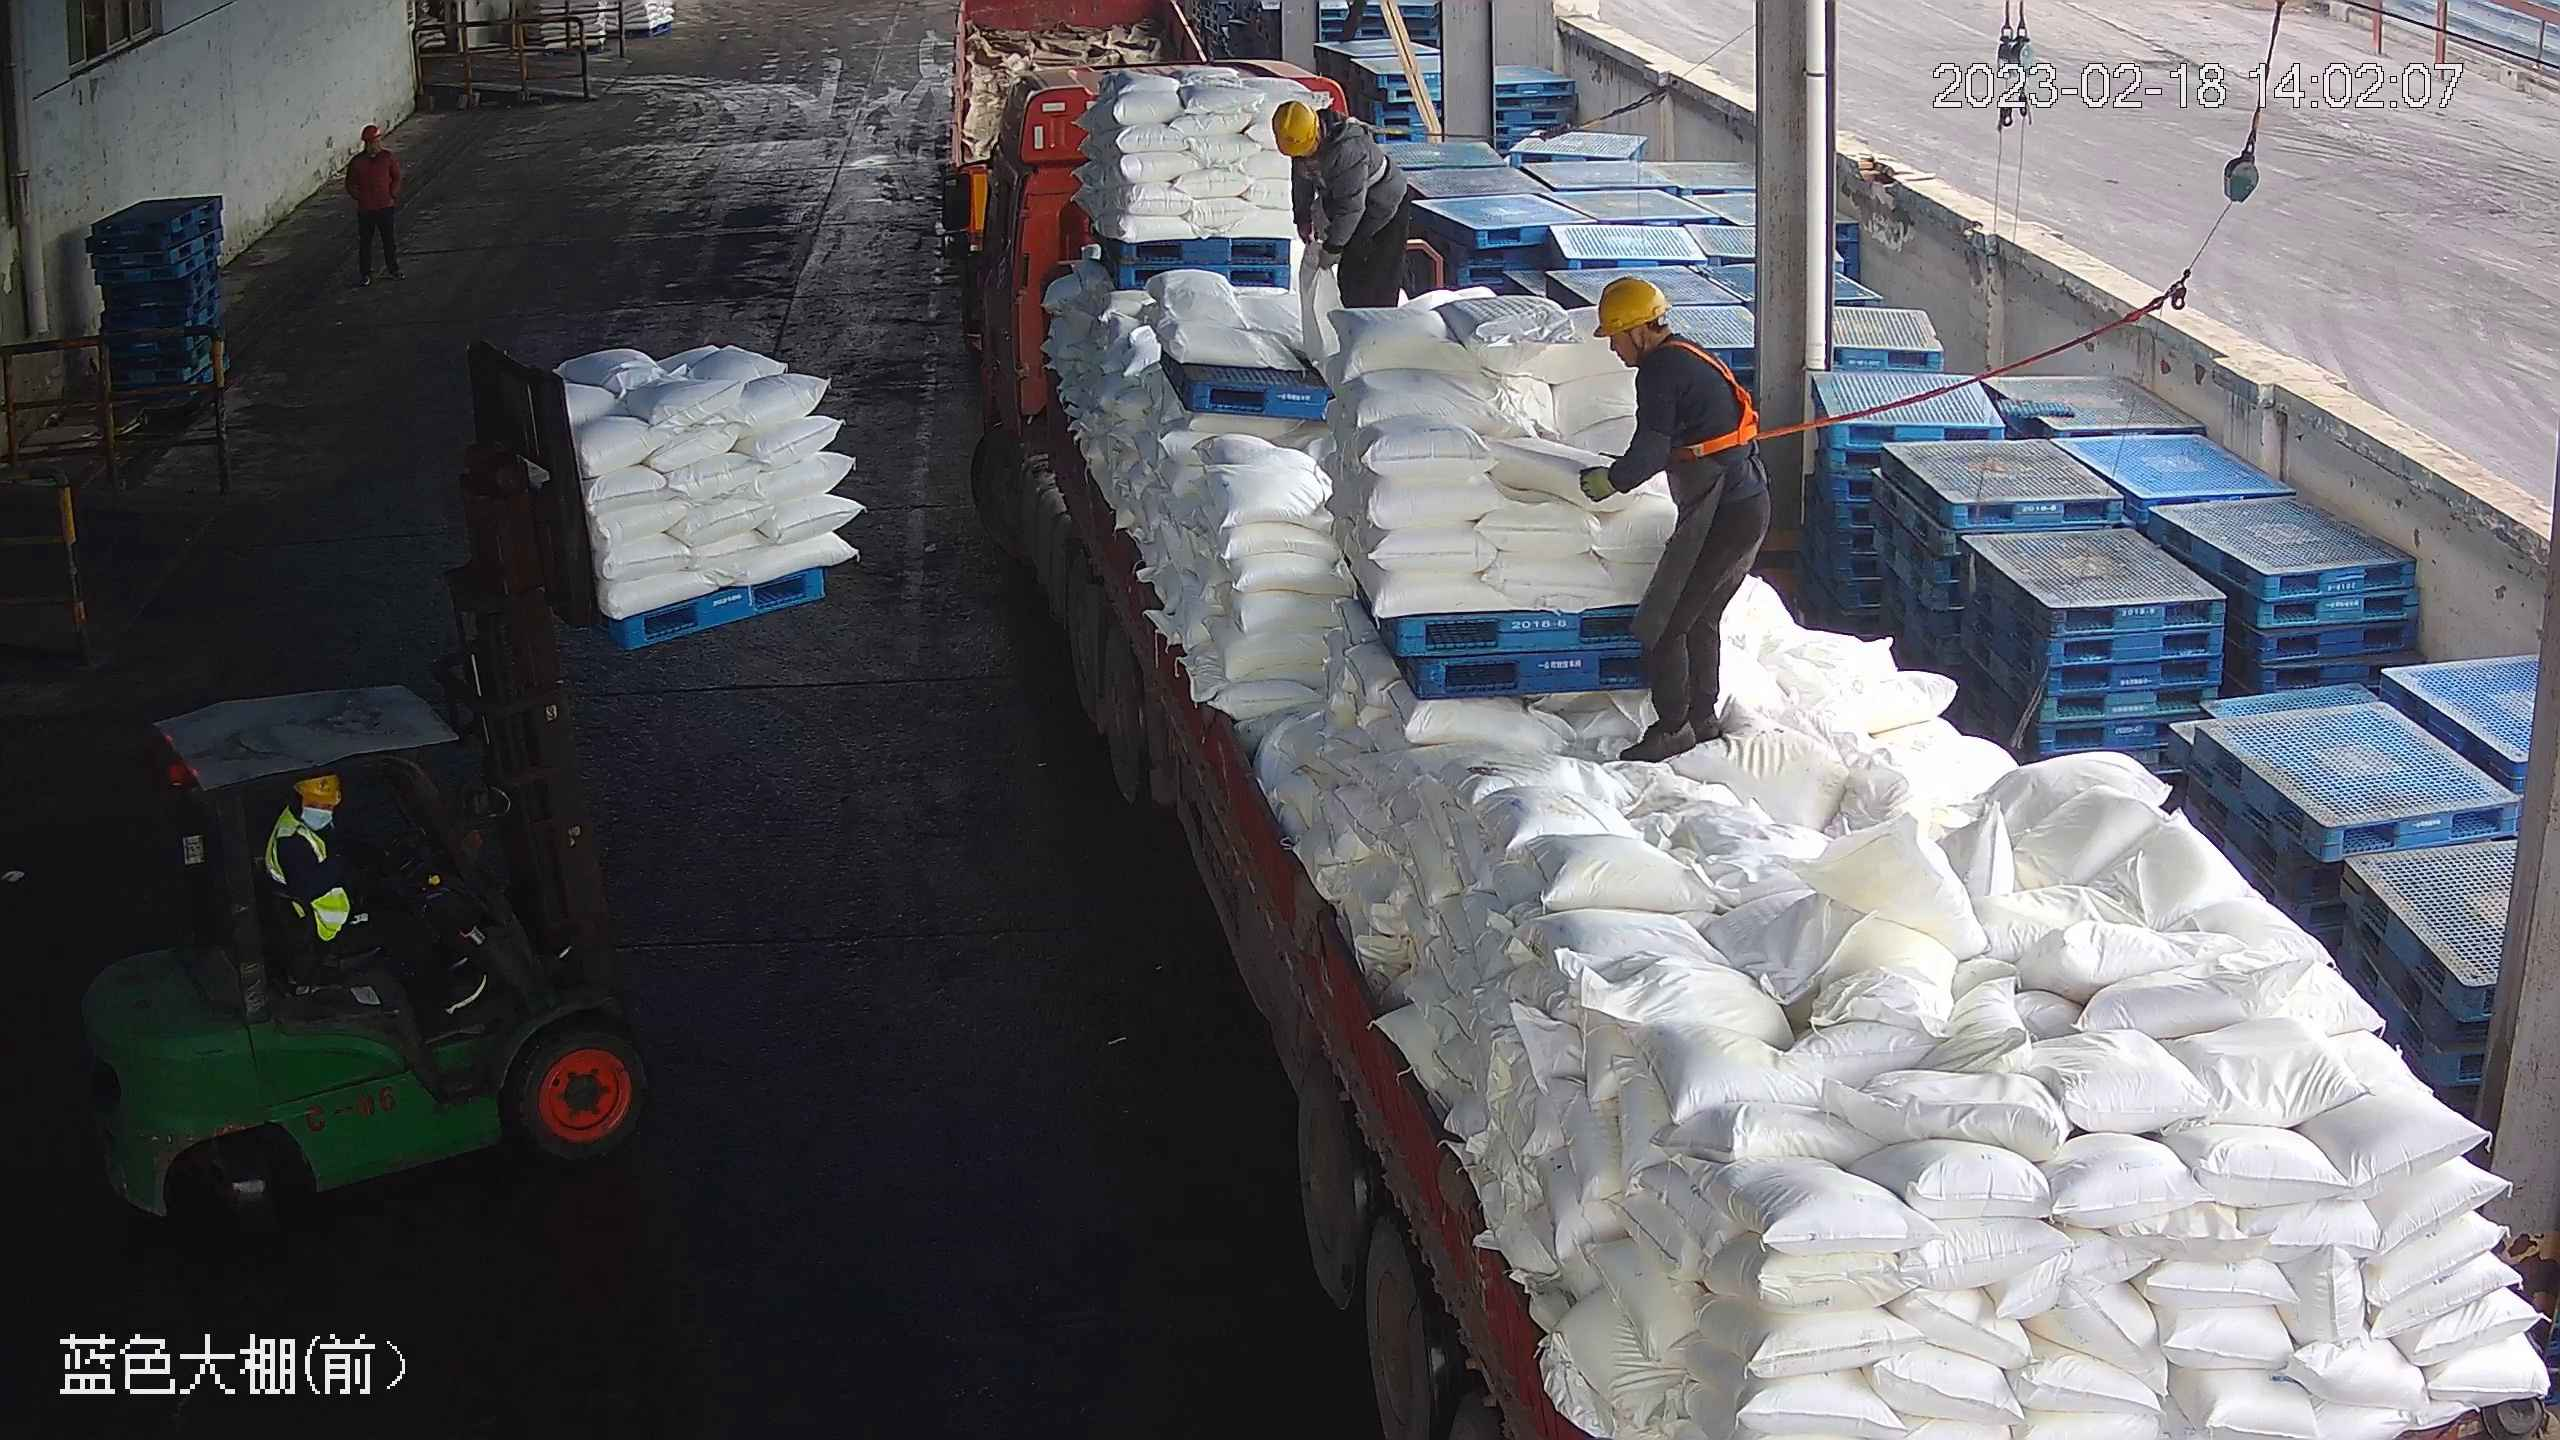belt: (1657, 336, 1769, 460), (1313, 116, 1392, 189)
head: (1590, 276, 1744, 400), (1270, 98, 1376, 178), (269, 773, 347, 871), (347, 119, 400, 173)
helmet: (1591, 275, 1671, 341), (1268, 98, 1320, 158), (296, 777, 341, 808), (360, 120, 386, 142)
people: (1578, 275, 1773, 762), (264, 773, 487, 1012), (1267, 94, 1416, 315), (340, 119, 412, 286)
truck: (944, 60, 2557, 1440)
